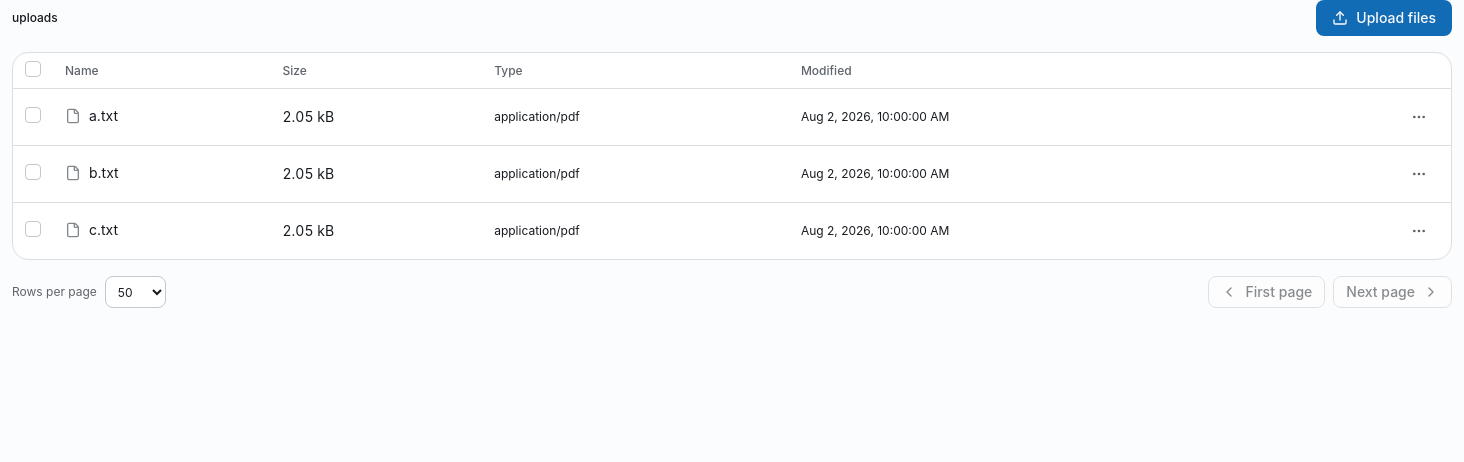
Test: ObjectBrowser › deletes a selection one key at a time and reports partial failure
Check: the link "a.txt" is shown, box top-left (65, 105), bottom-right (118, 127)
Click the checkbox named "select all objects": (33,69) top-left (25, 61), bottom-right (41, 77)
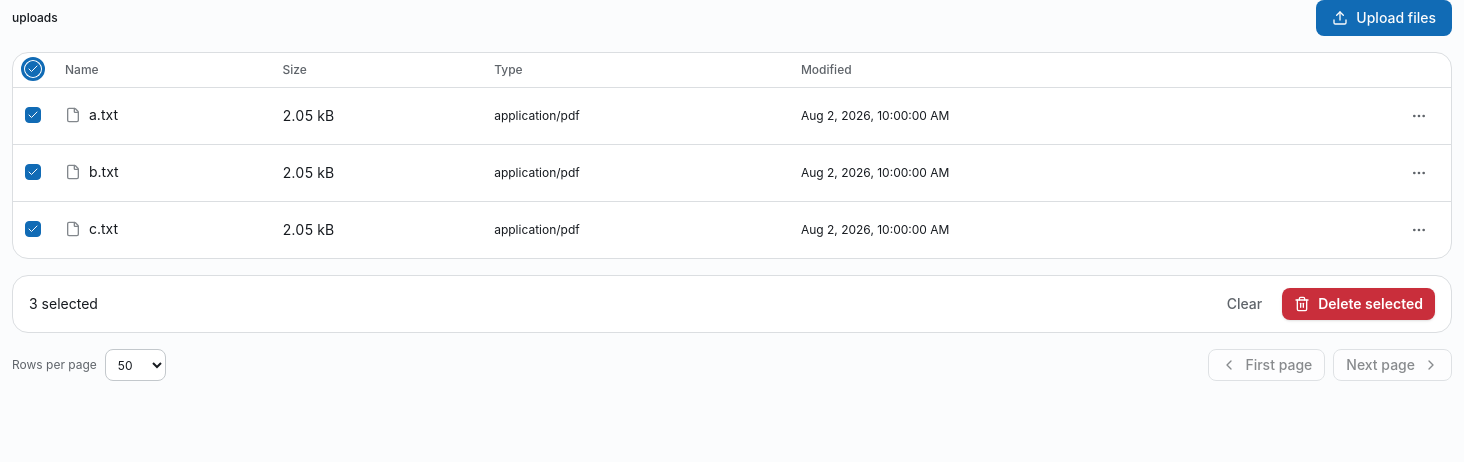
Check: the text "3 selected" is shown, box top-left (29, 293), bottom-right (98, 315)
Click the button "Delete selected": (1359,304) top-left (1282, 288), bottom-right (1435, 320)
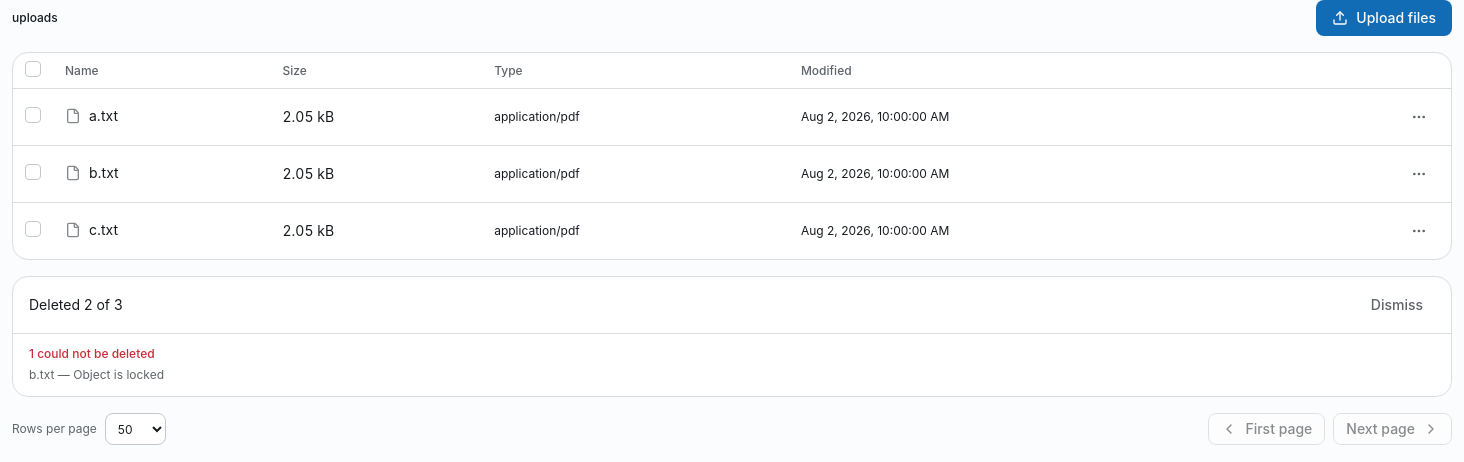
Check: the text "1 could not be deleted" does not show "a.txt"
Check: the text "1 could not be deleted b.txt — Object is locked" is shown, box top-left (13, 333), bottom-right (1451, 396)
